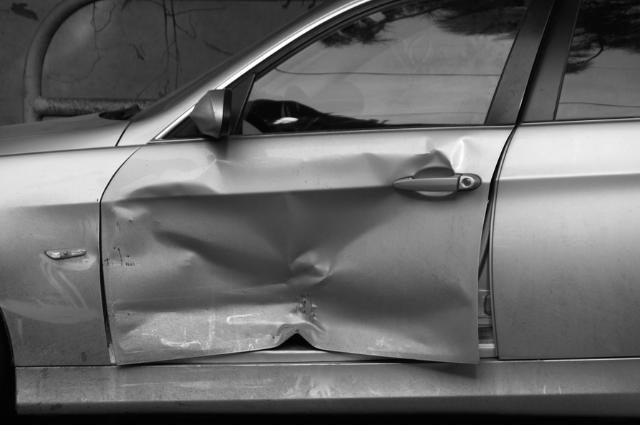Door: (128, 142, 480, 367)
